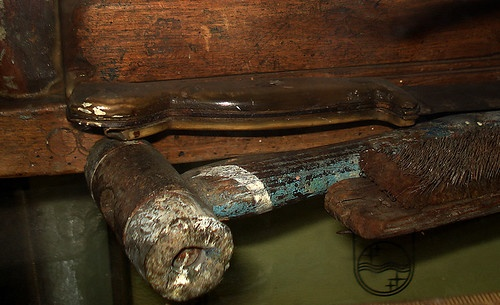hammer: (83, 132, 372, 297)
